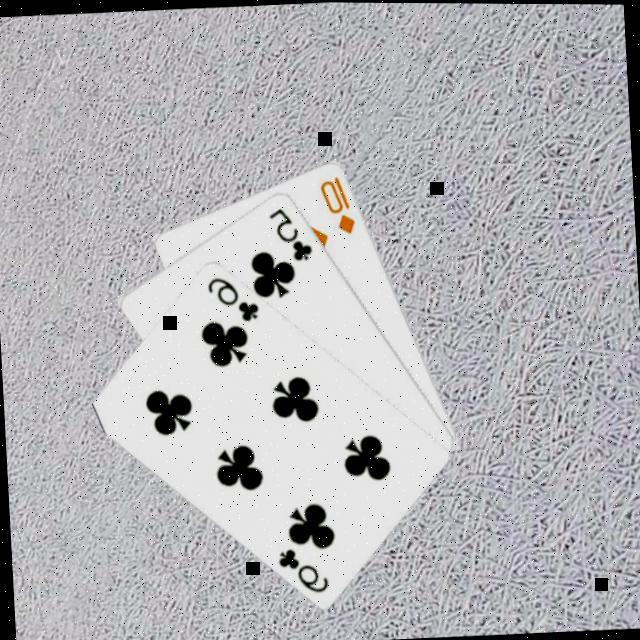10D: (318, 172, 361, 238)
5C: (268, 204, 319, 266)
6C: (205, 271, 266, 326), (276, 542, 335, 597)
